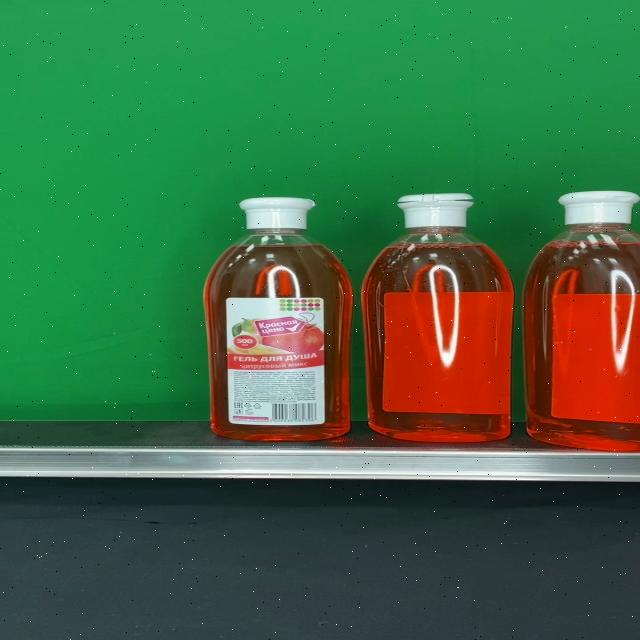Bottle: (361, 194, 513, 442), (204, 197, 353, 441), (522, 190, 640, 452)
Cap: (560, 190, 640, 226), (397, 193, 473, 228), (238, 198, 316, 232)
